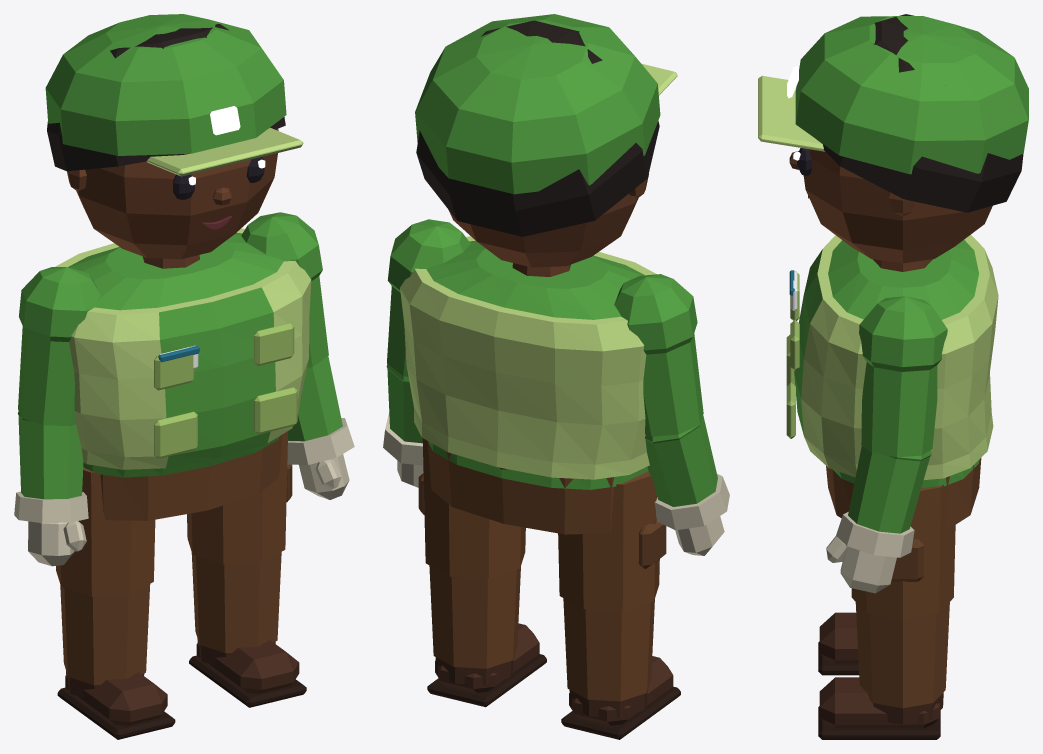
The model's file is auf_ver.glb.
3 renders of one model, left to right at view 1: azimuth 30°, elevation 25°; view 2: azimuth 150°, elevation 25°; view 3: azimuth 270°, elevation 25°, orthographic.
Parts seen in each view (by area): view 1: weste, kopfbedeckung, arm_r, bein_r, bein_l, kopf, torso, arm_l, becken, taschen, schuh_l, schuh_r (+4 smaller); view 2: weste, kopfbedeckung, bein_r, arm_r, bein_l, haare, torso, becken, arm_l, kopf, schuh_l, schuh_r (+1 smaller); view 3: kopfbedeckung, weste, arm_l, bein_l, kopf, torso, haare, schuh_l, schuh_r, becken, hand_l, taschen (+2 smaller).
Boxes of the visible parts, x1,y1,x2,y2 form: weste: (55,228,311,469); kopfbedeckung: (45,14,303,176); arm_r: (14,267,100,523); bein_r: (56,467,155,685); bein_l: (187,431,292,653); kopf: (67,129,278,259); torso: (68,232,283,477); arm_l: (241,212,354,464); becken: (100,434,282,520); taschen: (154,323,297,458); schuh_l: (189,638,306,707); schuh_r: (57,671,175,739); weste: (400,236,656,479); kopfbedeckung: (415,14,677,194); bein_r: (558,470,666,701); arm_r: (614,274,729,530); bein_l: (418,438,525,668); haare: (416,20,659,236); torso: (426,240,648,489); becken: (428,441,614,534); arm_l: (383,219,470,465); kopf: (448,173,648,267); schuh_l: (427,623,546,707); schuh_r: (561,656,680,739); kopfbedeckung: (758,16,1028,174); weste: (794,234,998,479); arm_l: (836,296,947,557); bein_l: (851,484,955,708); kopf: (803,149,992,263); torso: (828,240,979,487); haare: (820,14,1023,212); schuh_l: (818,677,943,739); schuh_r: (818,612,859,675); becken: (826,458,981,530); hand_l: (826,536,896,593); taschen: (786,271,799,438).
Bounding box in the file's own units: 0.0124 × 0.0234 × 0.00866.
